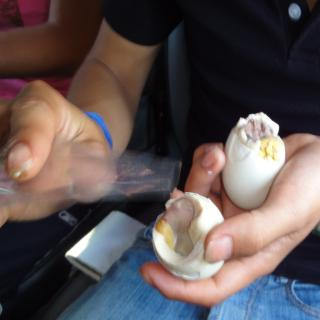Egg: (149, 191, 233, 278), (221, 110, 283, 211)
